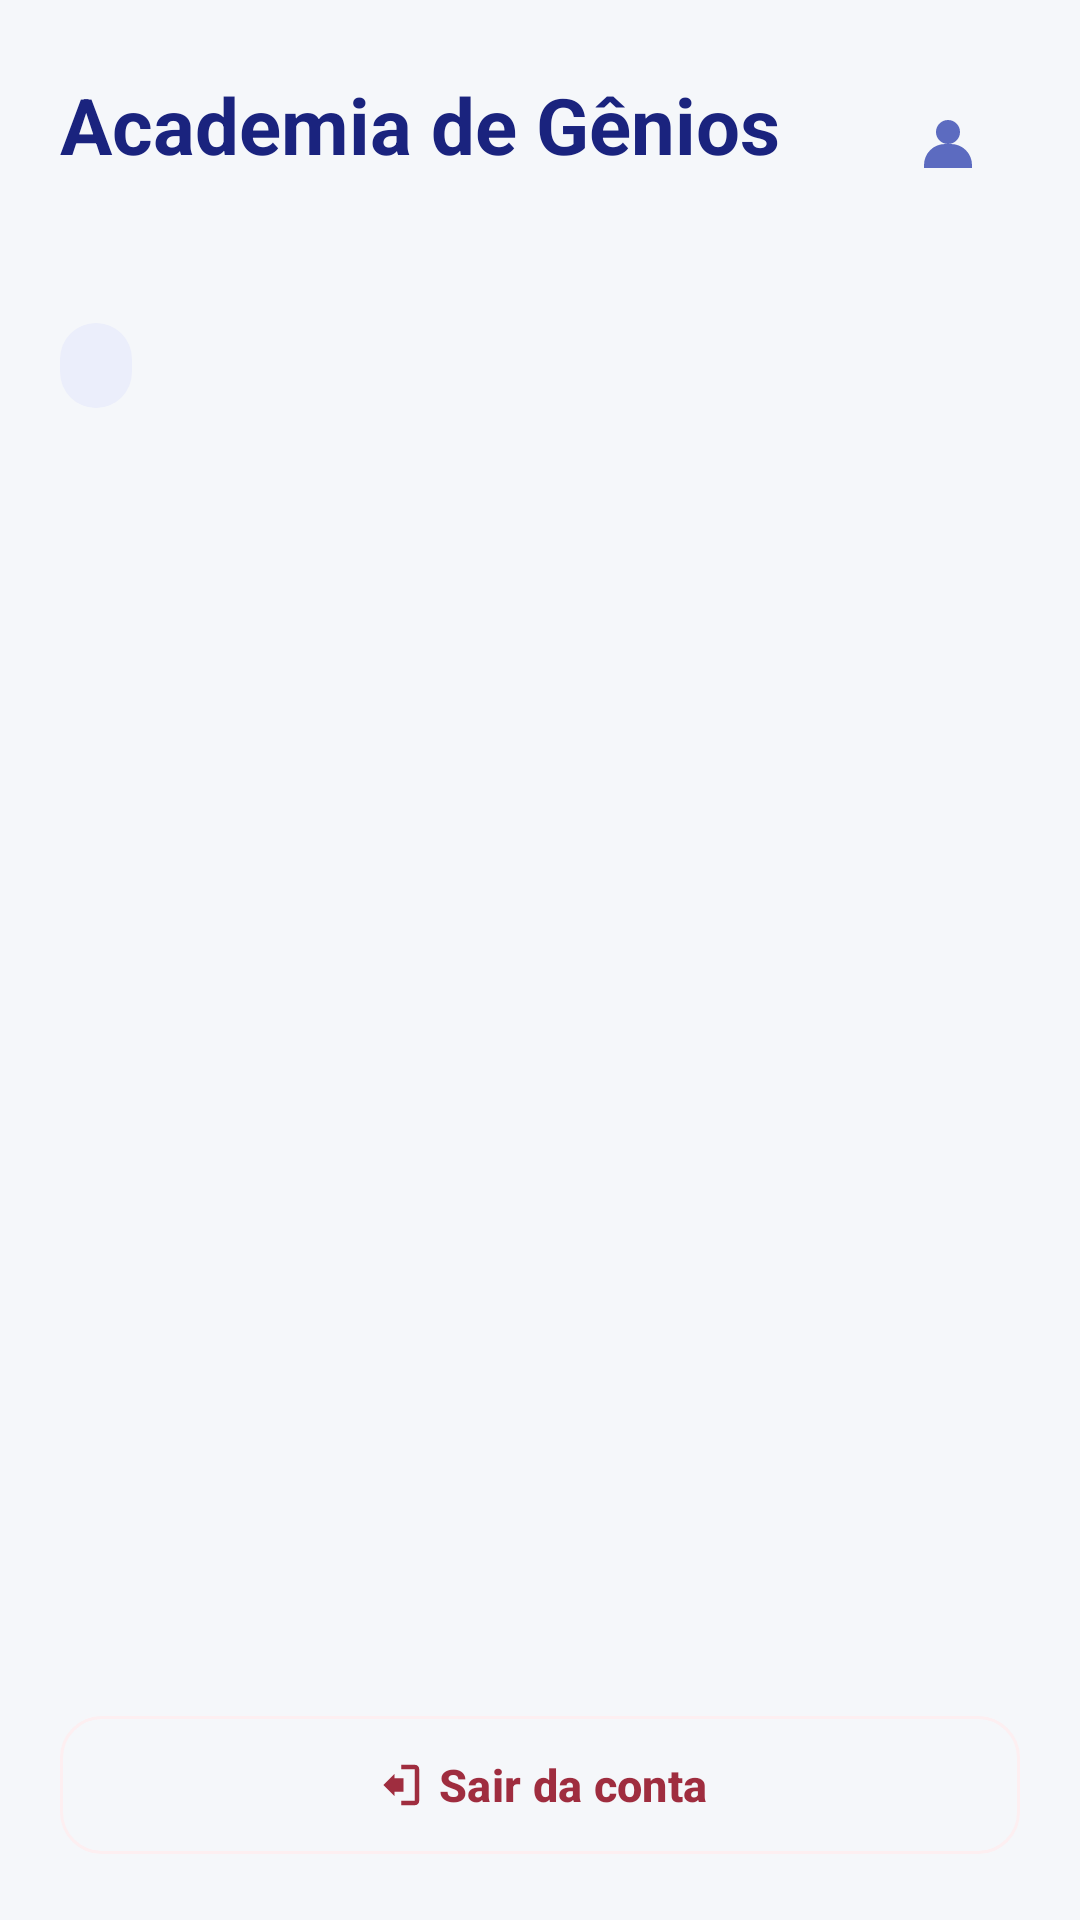

Screen size 1080px x 1920px. Icon name, then its center in pixels as [x,y]:
Minha conta: [948,144]
